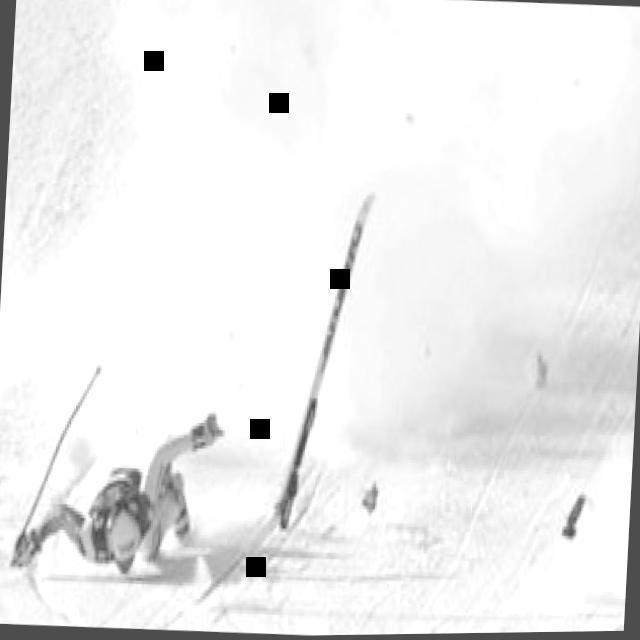Fall-Detected: (0, 371, 233, 603)
